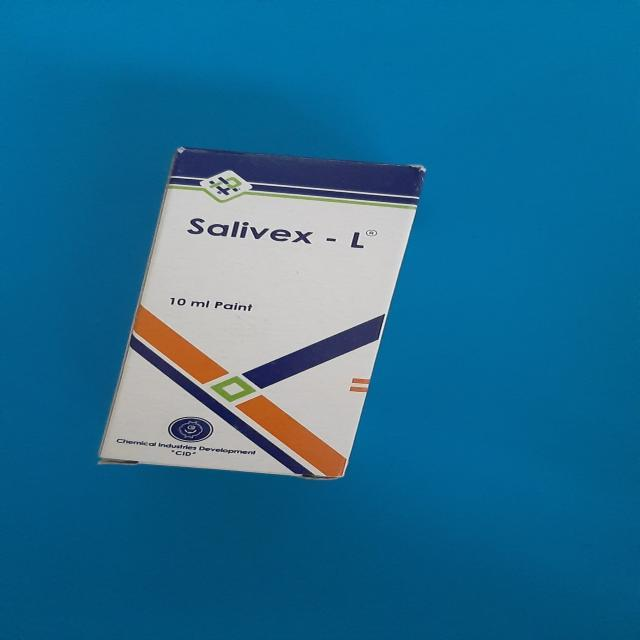Medicine Name: (179, 213, 364, 257)
